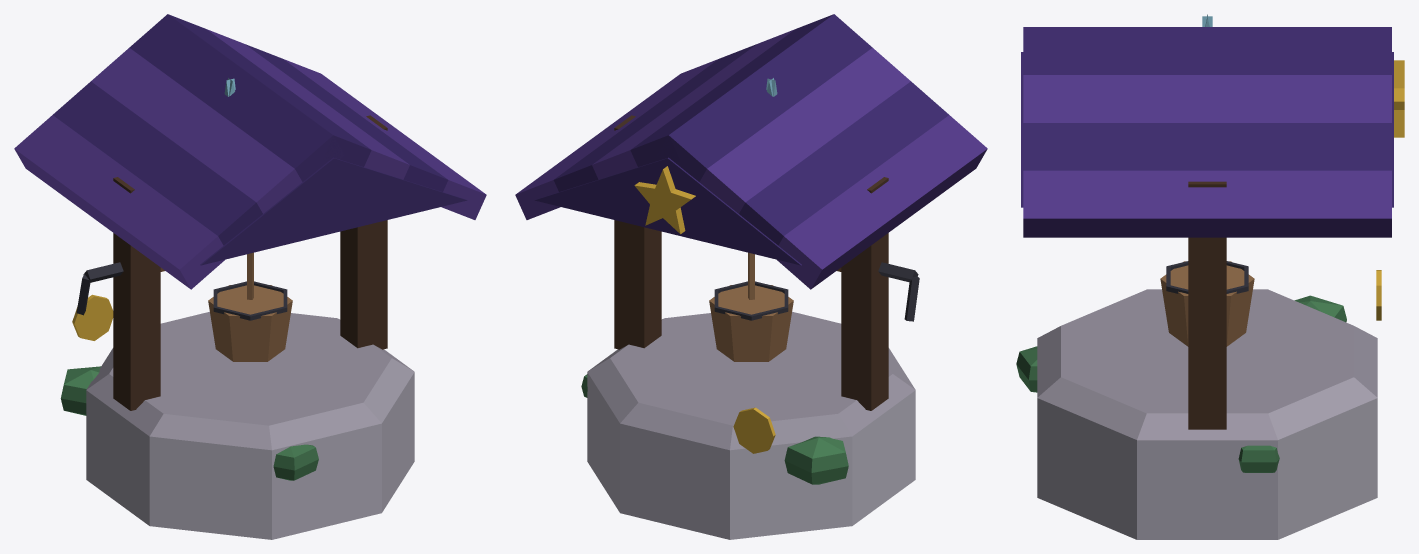
Rendered from Decor_WizardTower_Well.fbx.
3 renders of one model, left to right at view 1: azimuth 30°, elevation 25°; view 2: azimuth 150°, elevation 25°; view 3: azimuth 270°, elevation 25°, orthographic. The views are drawn at different scales.
Parts seen in each view (by area): view 1: Well_Body; view 2: Well_Body; view 3: Well_Body.
Part boxes in pixels (x1=…): Well_Body: x1=14, y1=14, x2=486, y2=539; Well_Body: x1=515, y1=14, x2=987, y2=539; Well_Body: x1=1016, y1=14, x2=1404, y2=539.
Size of the model in its own units: 9.16 by 10.77 by 8.6.
